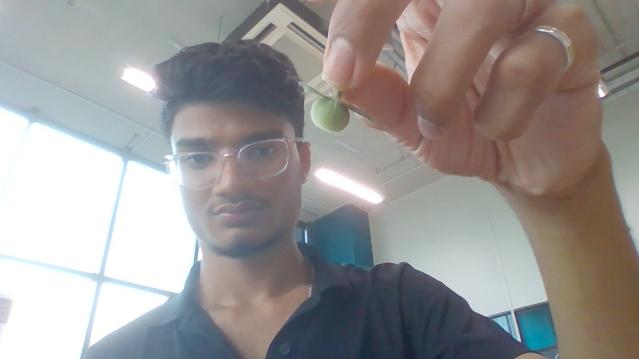Fruit Maturation: (310, 95, 349, 134)
